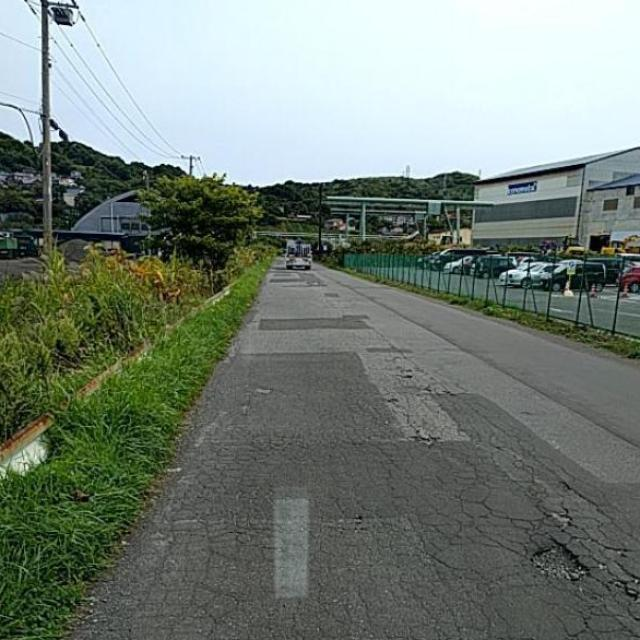Sambungan: (48, 353, 640, 640), (253, 311, 368, 340)
